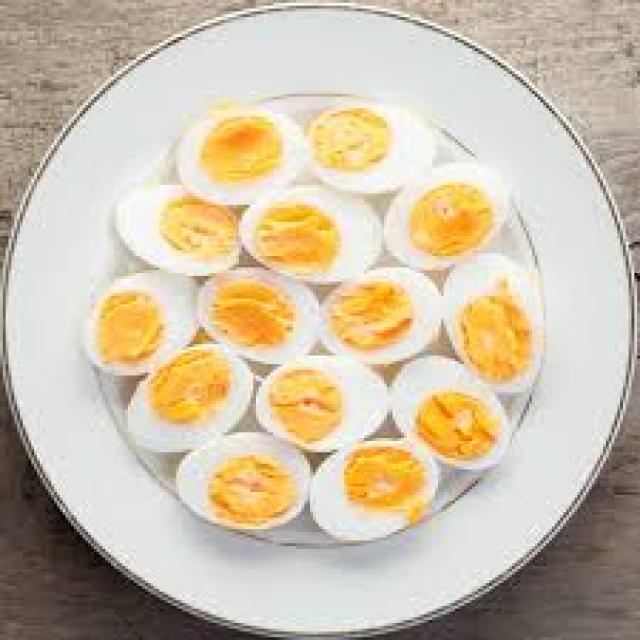boiled egg: (85, 102, 555, 533)
